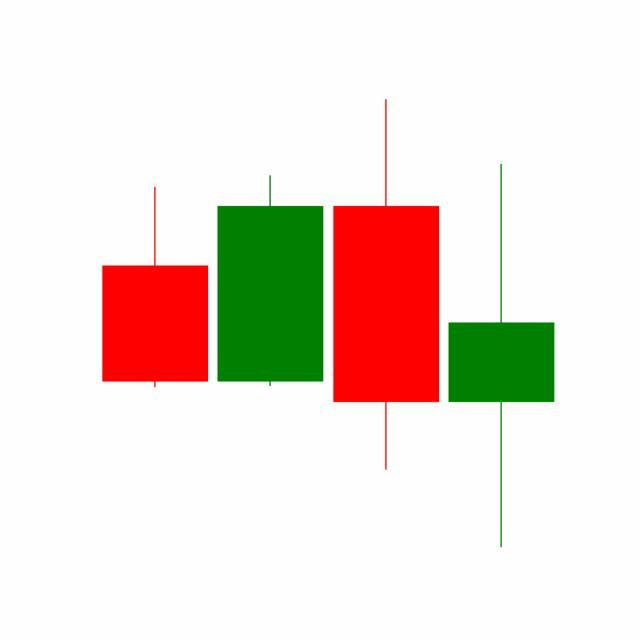Spinning Top: (444, 160, 560, 552)
